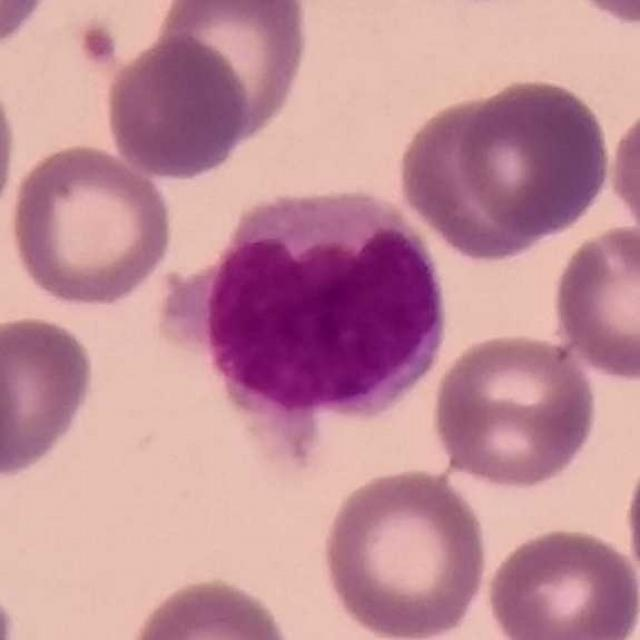mono: (163, 183, 466, 459)
